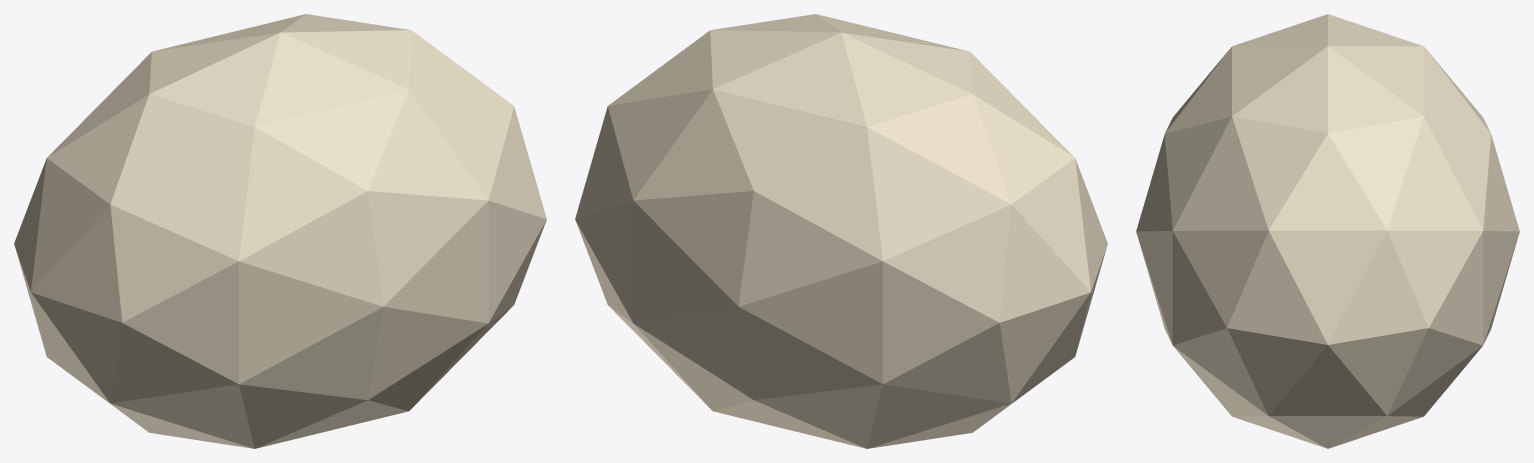
Rendered from seed_dicot.glb.
3 renders of one model, left to right at view 1: azimuth 30°, elevation 25°; view 2: azimuth 150°, elevation 25°; view 3: azimuth 270°, elevation 25°, orthographic. The views are drawn at different scales.
Visible parts, largest first — view 1: seed; view 2: seed; view 3: seed.
Part boxes in pixels (box(x1,y1,x2,y2)): seed: box(14, 14, 546, 448); seed: box(575, 14, 1107, 448); seed: box(1136, 14, 1519, 448).
Bounding box in the file's own units: 0.0084 × 0.0064 × 0.006.
